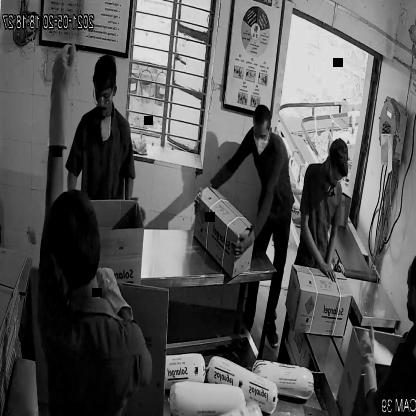goggles: (90, 79, 116, 105), (328, 164, 346, 186)
no_goggles: (251, 122, 272, 144)
